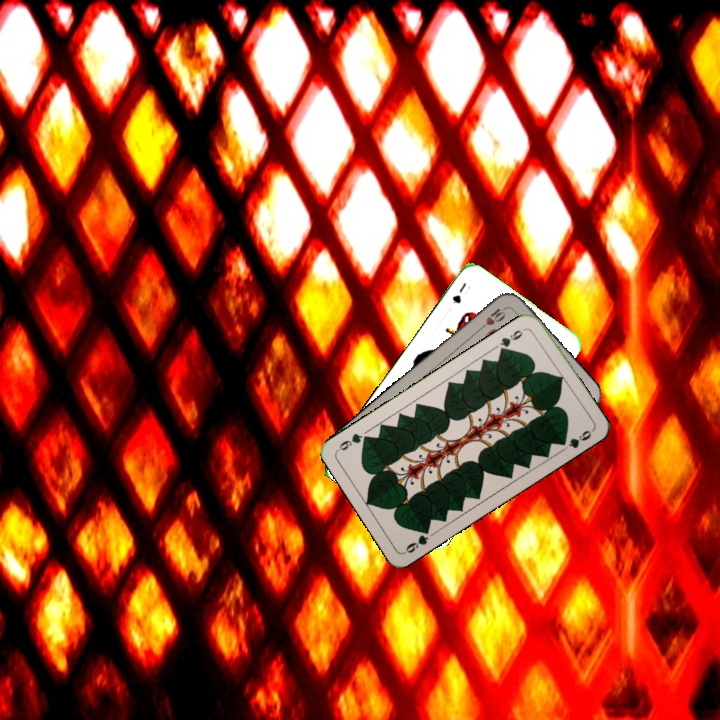G9: (495, 324, 529, 355), (401, 523, 432, 556)
GU: (448, 278, 469, 307)
H10: (475, 303, 510, 332)
